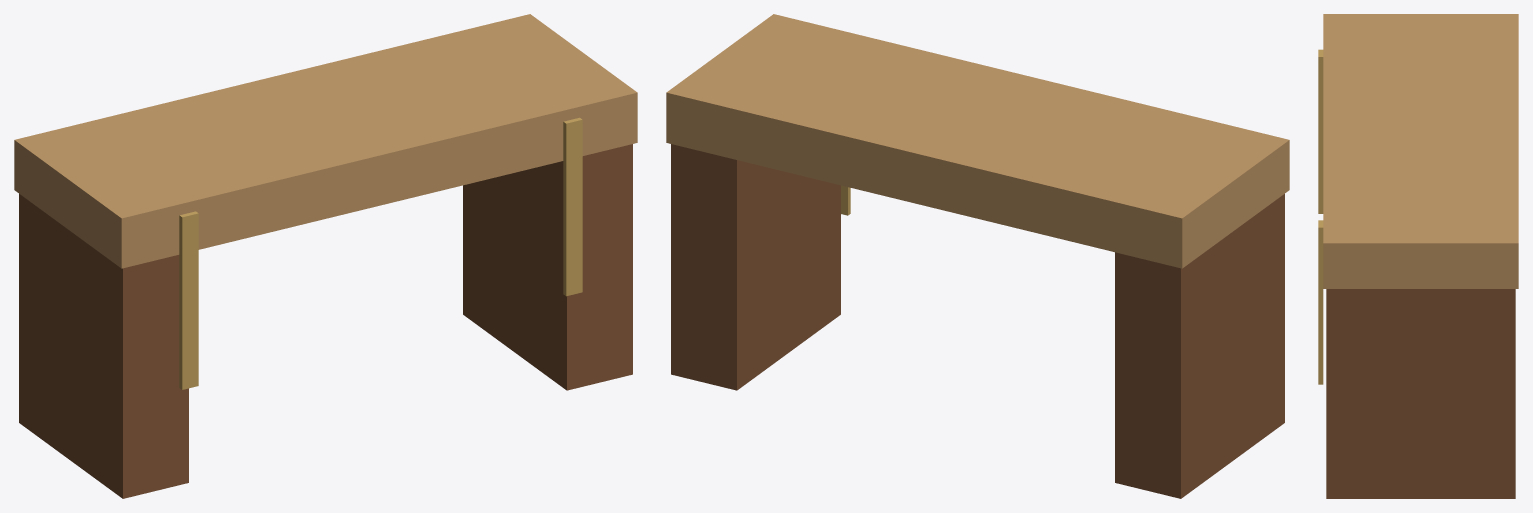
File: timber_portal.glb
3 views of the same model, side by side, from view 1: azimuth 30°, elevation 25°; view 2: azimuth 150°, elevation 25°; view 3: azimuth 270°, elevation 25° (orthographic). The views are drawn at different scales.
Visible parts, largest first — view 1: Weathered lintel, Pier portal, Pier portal.001, Portal strap, Portal strap.001; view 2: Weathered lintel, Pier portal, Pier portal.001; view 3: Weathered lintel, Pier portal.001, Portal strap.001, Portal strap.
Boxes of the visible parts, x1,y1,x2,y2 form: Weathered lintel: (14, 14, 637, 268); Pier portal: (19, 194, 188, 498); Pier portal.001: (463, 144, 632, 390); Portal strap: (179, 211, 198, 389); Portal strap.001: (563, 117, 582, 296); Weathered lintel: (666, 14, 1289, 268); Pier portal: (1115, 194, 1284, 498); Pier portal.001: (671, 144, 840, 390); Weathered lintel: (1323, 14, 1518, 288); Pier portal.001: (1326, 289, 1515, 498); Portal strap.001: (1318, 220, 1323, 384); Portal strap: (1318, 49, 1323, 213).
Size of the model in its own units: 1.72 by 0.9 by 0.636.
